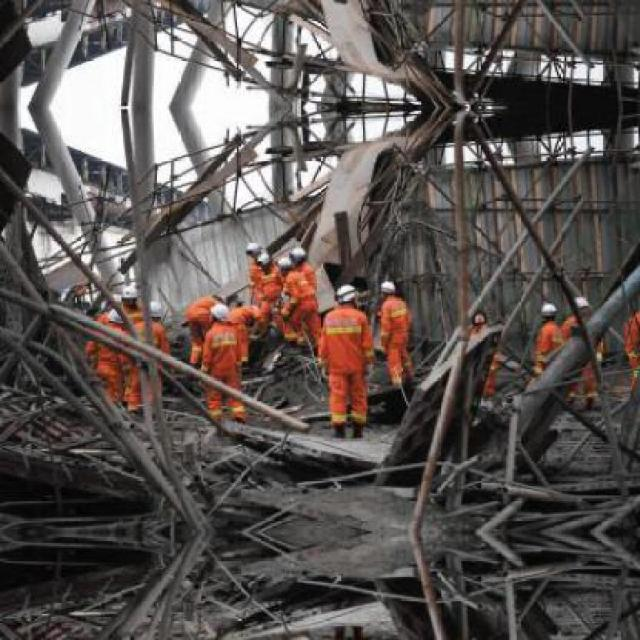Reflective-Jacket: (316, 306, 372, 379), (200, 317, 252, 380), (377, 294, 415, 358), (245, 263, 283, 306), (285, 264, 320, 310)
Safety-Helmet: (331, 280, 362, 306), (570, 292, 596, 316), (117, 282, 145, 304), (144, 297, 168, 320), (537, 298, 561, 318), (210, 302, 232, 323), (288, 243, 310, 263), (377, 277, 401, 295), (277, 255, 294, 272), (257, 250, 272, 268)
